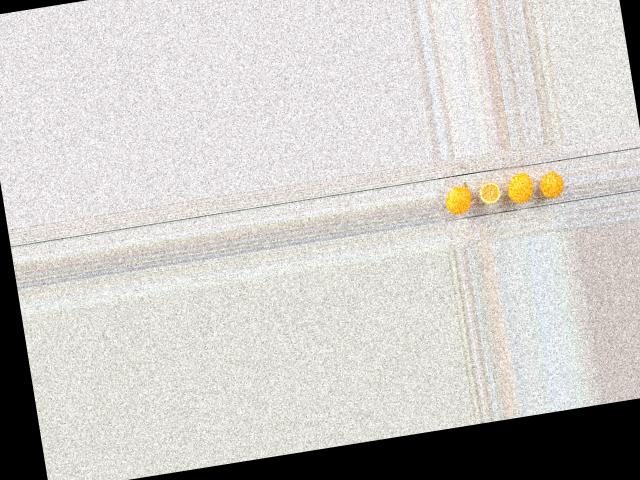lemon: (442, 180, 473, 216)
